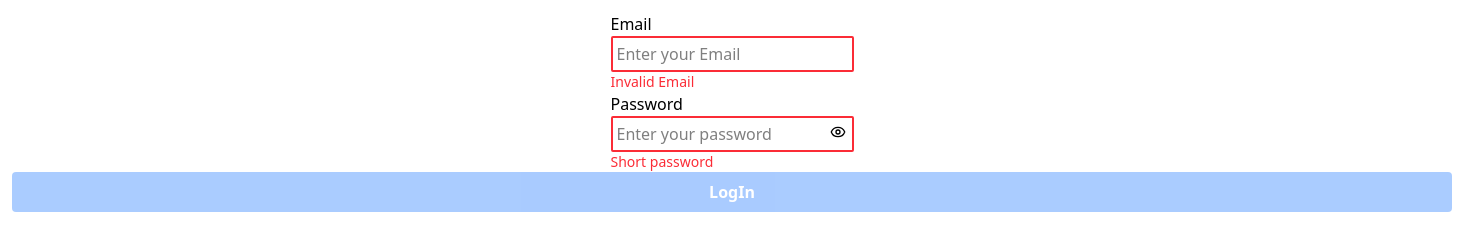
Test: Login Component › submit button tests › should be enabled if input are valid
The image size is (1464, 229).
Clear the field with test id "email" at (732,54), box [610,36,854,72]
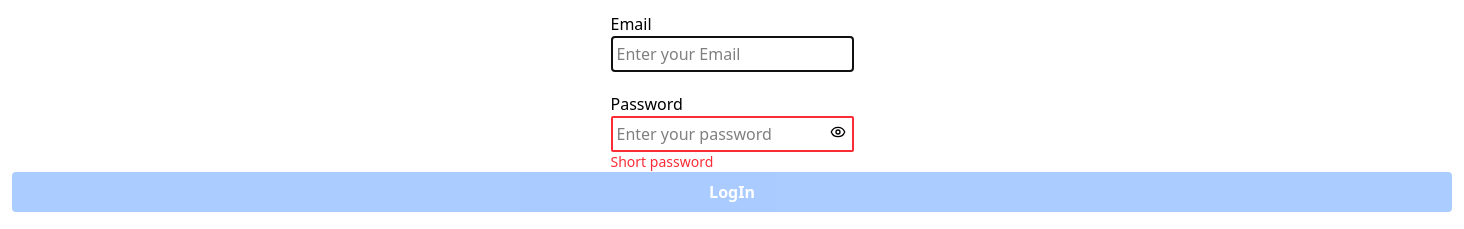
Clear the password field with test id "password" at (732,134), box [610,116,854,152]
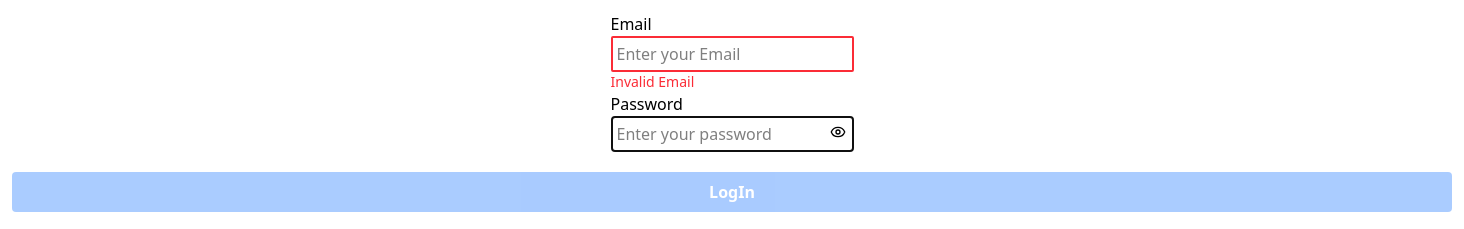
Type "test@test.com" into the field with test id "email" at (732,54), box [610,36,854,72]
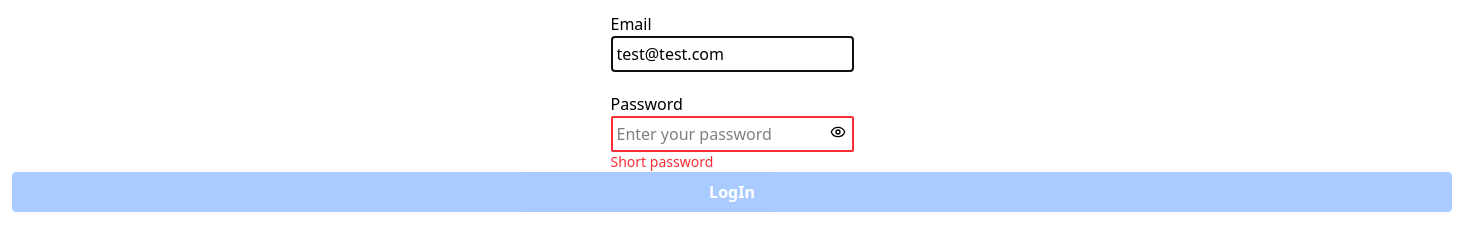
Type "q1231231231" into the password field with test id "password" at (732,134), box [610,116,854,152]
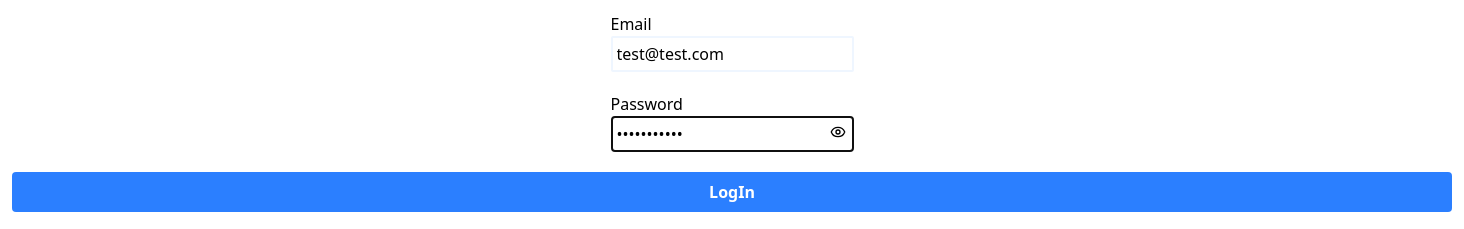
expect the button with test id "submit" is enabled: met, box [12,172,1452,212]
